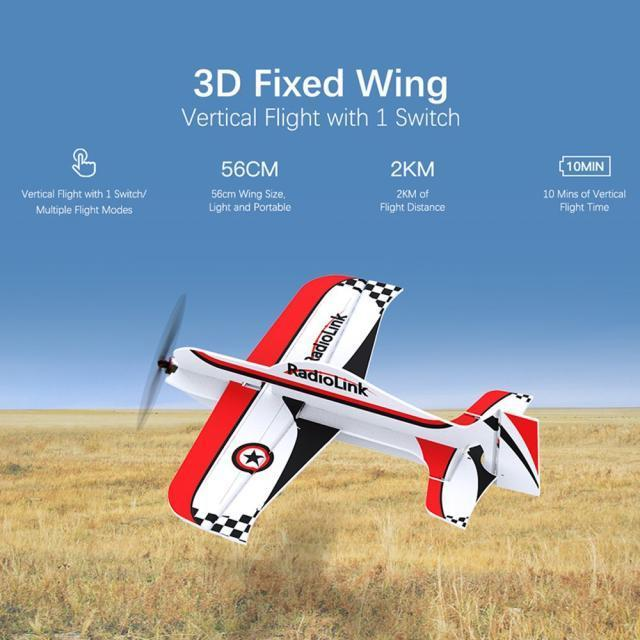iha: (129, 263, 549, 549)
